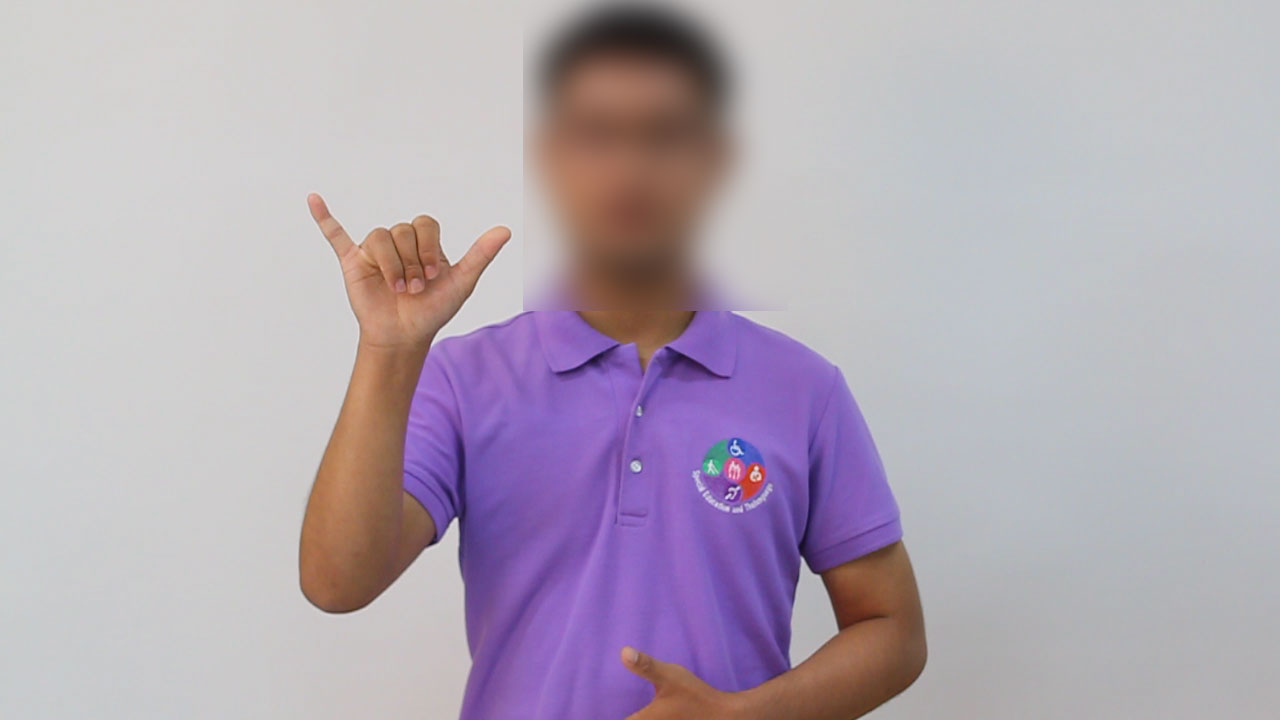yor: (297, 183, 516, 358)
